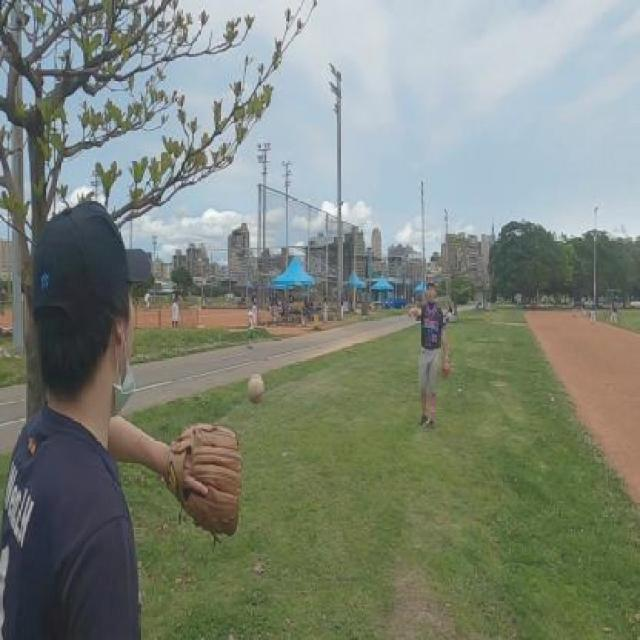sports ball: (247, 372, 266, 404)
